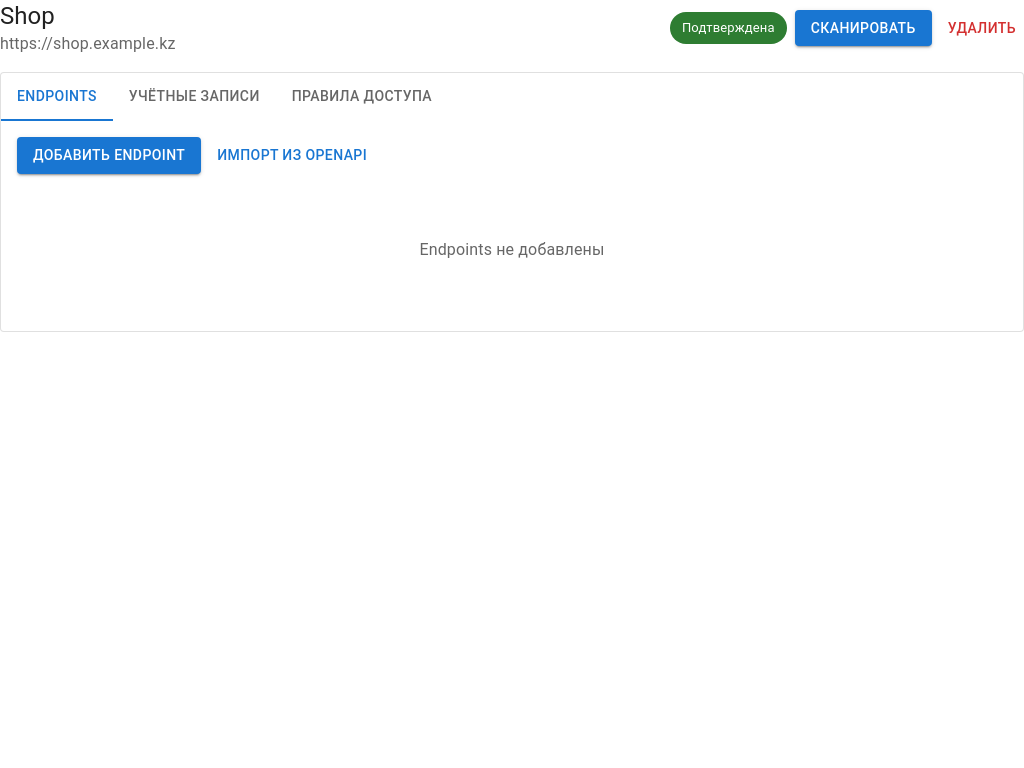
Test case: TargetDetailPage › deletes after confirmation and returns to the list
Click the button "Удалить".
click(982, 28)  # box [940,10,1023,46]
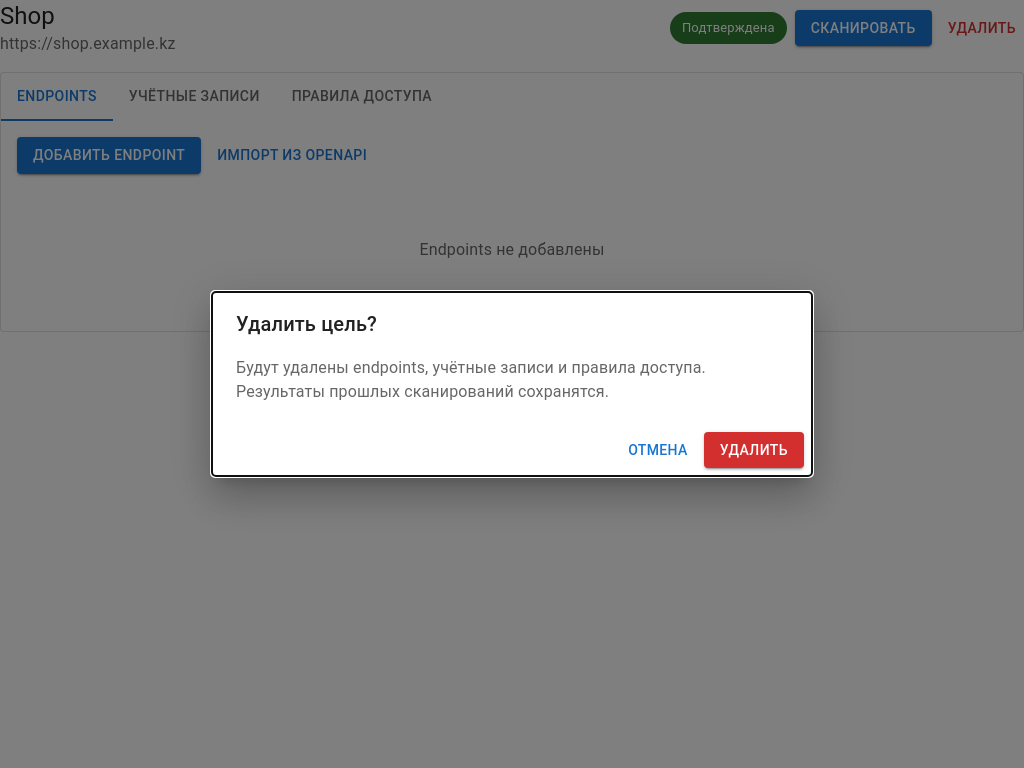
Click the button "Удалить".
click(754, 450)  # box [704,432,804,468]
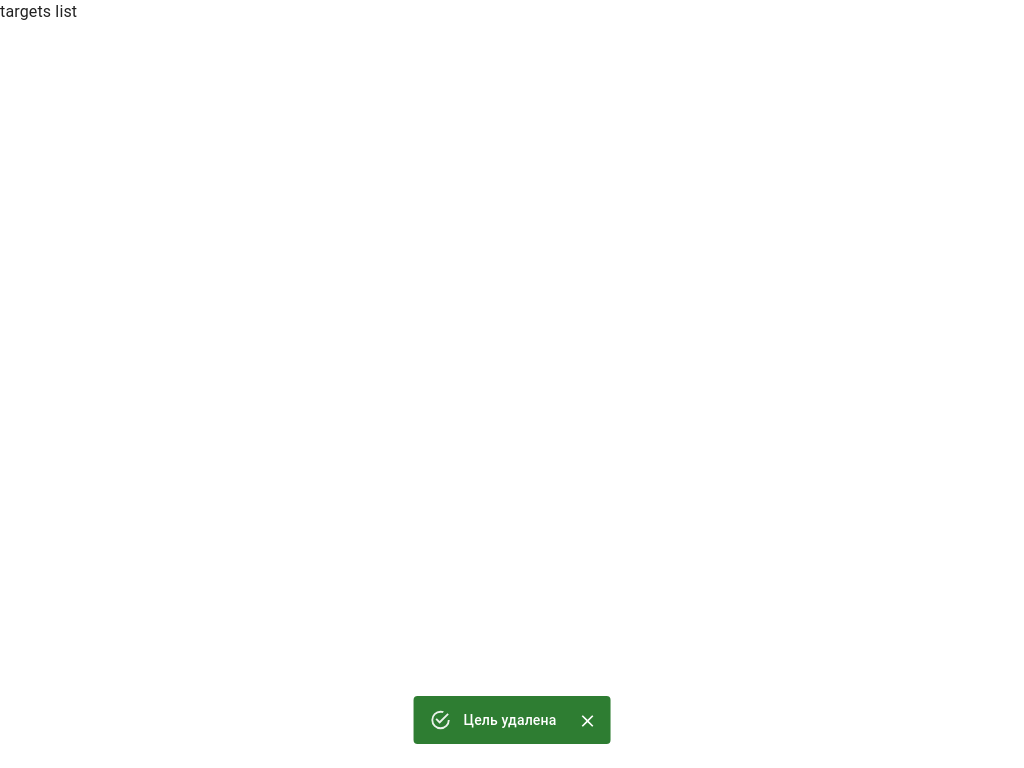
Expected: the text "targets list" is shown, [0,2,77,21]
